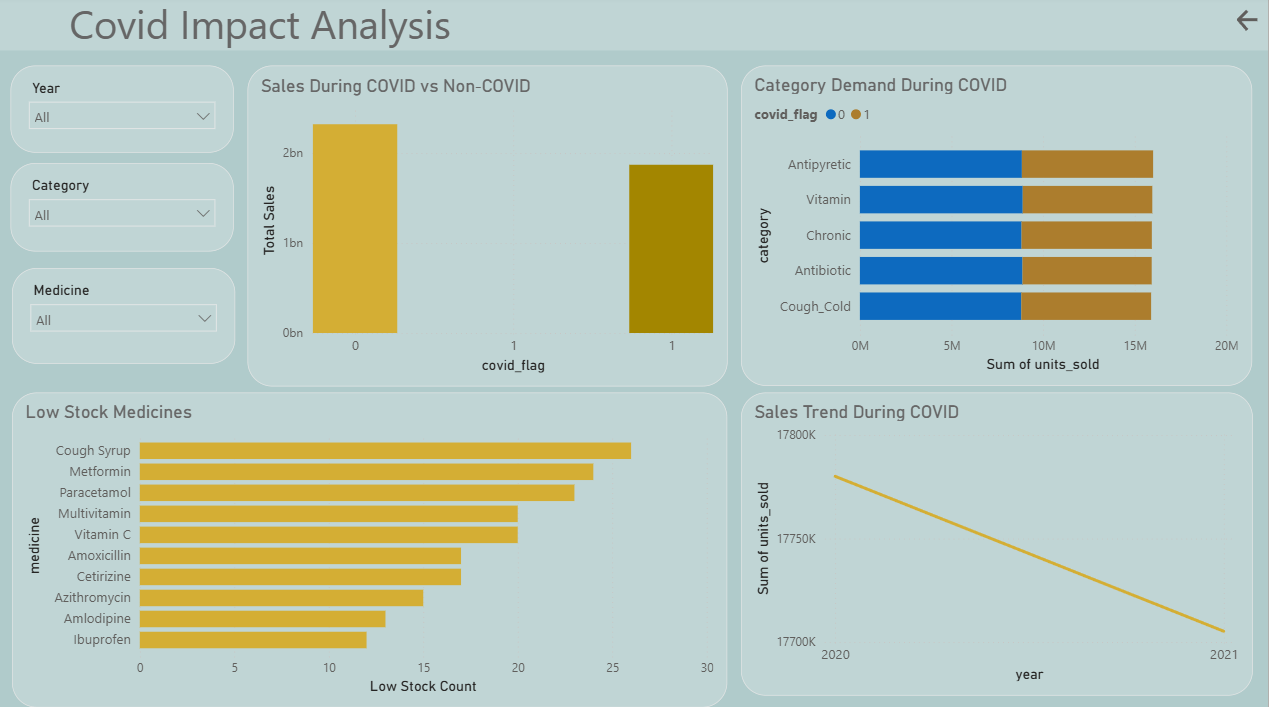

Layout of this report page (visuals, bound fields, positions):
{"tool":"powerbi","page":{"name":"COVID IMPACT ANALYSIS","canvas":[1280,720],"ordinal":5},"visuals":[{"type":"textbox","box":[0,0,1279.5,51.5],"z":0},{"type":"lineChart","title":"Sales Trend During COVID","fields":{"Category":["global_pharmacy_sales_2020_2025.year"],"Y":["Sum(global_pharmacy_sales_2020_2025.units_sold)"]},"box":[379.8,402.5,805,317.5],"z":1000},{"type":"columnChart","title":"Sales During COVID vs Non‑COVID","fields":{"Category":["global_pharmacy_sales_2020_2025.covid_flag"],"Y":["global_pharmacy_sales_2020_2025.Total Sales"]},"box":[236.2,71.8,498.9,323.2],"z":2000},{"type":"slicer","fields":{"Values":["global_pharmacy_sales_2020_2025.year"]},"box":[0,71.8,224.9,219.2],"z":4000},{"type":"slicer","fields":{"Values":["global_pharmacy_sales_2020_2025.category"]},"box":[1.5,304.5,225.8,230.3],"z":5000},{"type":"barChart","title":"Category Demand During COVID","fields":{"Category":["global_pharmacy_sales_2020_2025.category"],"Y":["Sum(global_pharmacy_sales_2020_2025.units_sold)"],"Series":["global_pharmacy_sales_2020_2025.covid_flag"]},"box":[748.4,71.8,515.9,323.2],"z":7001}]}

Visuals, with their boxes in screenshot pixels (x1, y1, x2, y2), scaled from the page's 1280x720 canvas onto the 1269x707 screenshot:
textbox: (left=0, top=0, right=1268, bottom=51)
"Sales Trend During COVID" lineChart: (left=377, top=395, right=1175, bottom=706)
"Sales During COVID vs Non‑COVID" columnChart: (left=234, top=71, right=729, bottom=388)
slicer - global_pharmacy_sales_2020_2025.year: (left=0, top=71, right=223, bottom=286)
slicer - global_pharmacy_sales_2020_2025.category: (left=1, top=299, right=225, bottom=525)
"Category Demand During COVID" barChart: (left=742, top=71, right=1253, bottom=388)
